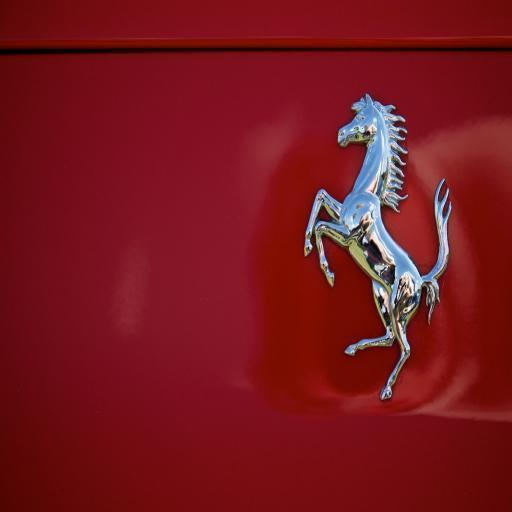horse: (303, 91, 450, 403)
